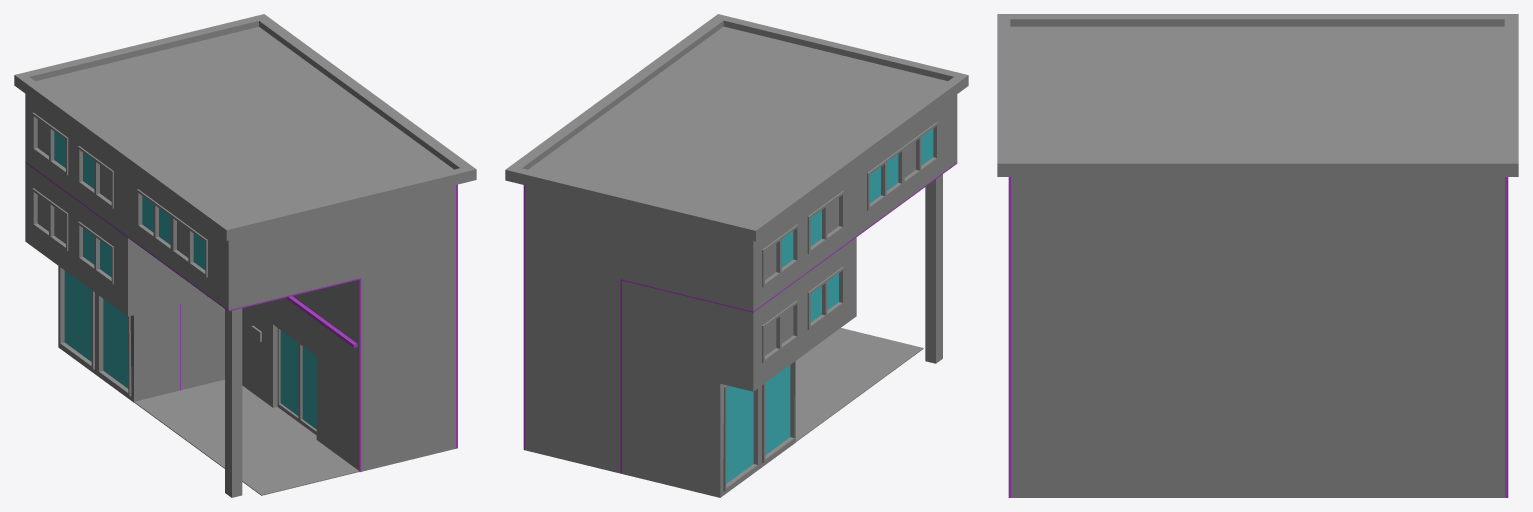
File: buildings_S_07_VAR1 1.fbx
3 views of the same model, side by side, from view 1: azimuth 30°, elevation 25°; view 2: azimuth 150°, elevation 25°; view 3: azimuth 270°, elevation 25° (orthographic). The views are drawn at different scales.
Visible parts, largest first — view 1: buildings_S_07_VAR1; view 2: buildings_S_07_VAR1; view 3: buildings_S_07_VAR1.
Boxes of the visible parts, <box> form: buildings_S_07_VAR1: <box>14,14,476,497</box>; buildings_S_07_VAR1: <box>505,14,968,497</box>; buildings_S_07_VAR1: <box>997,14,1518,497</box>.
Size of the model in its own units: 8.32 by 8.88 by 12.24.
